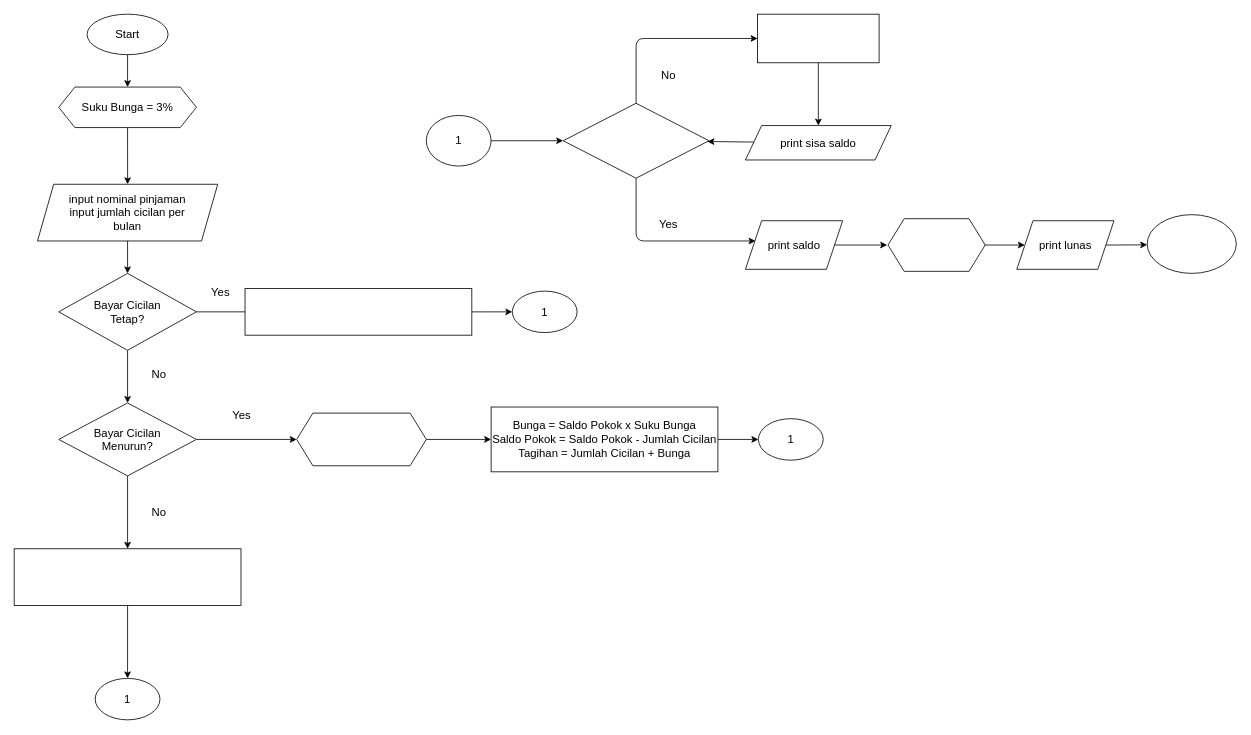
Image size: 1251x735. Some labels were removed from this diagram. Here are the shapes that lost their labels. From the top down, the centre of each, then its label:
At [818,38]: "Saldo = Nominal Pinjaman - Tagihan".
At [635,140]: "Saldo < tagihan?".
At [936,244]: "Saldo = 0".
At [1191,243]: "END".
At [358,311]: "Tagihan = jumlah cicilan x (100% + Suku Bunga)".
At [361,439]: "Saldo Pokok = Saldo".
At [127,576]: "Tagihan = jumlah cicilan x (100% + Suku Bunga + Bunga BI)".
